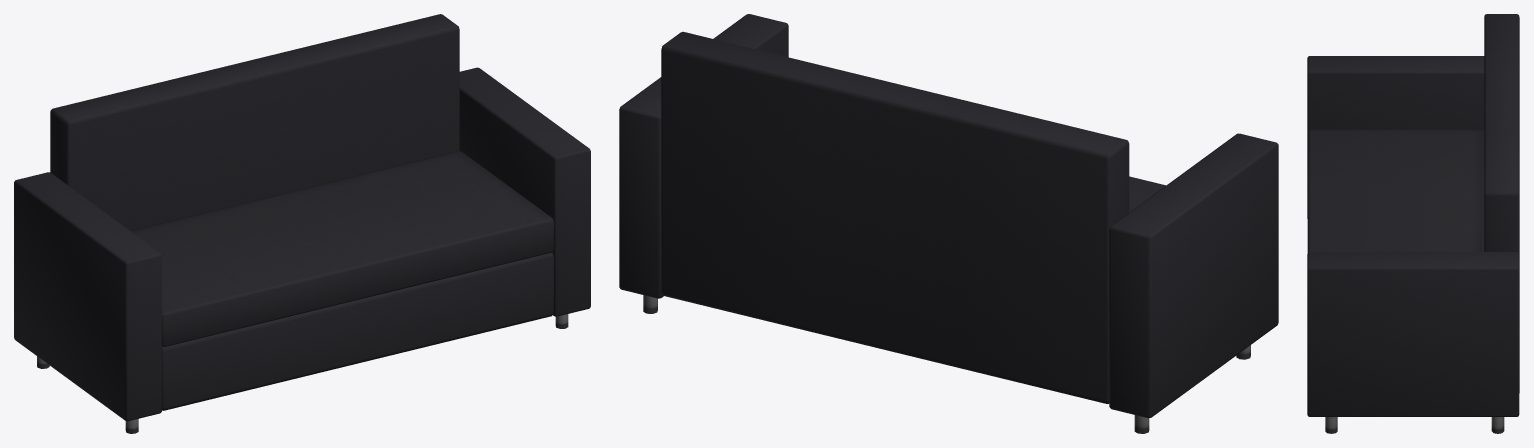
File: sofa.FBX
3 renders of one model, left to right at view 1: azimuth 30°, elevation 25°; view 2: azimuth 150°, elevation 25°; view 3: azimuth 270°, elevation 25°, orthographic. The views are drawn at different scales.
Parts seen in each view (by area): view 1: sofa; view 2: sofa; view 3: sofa.
Part boxes in pixels (x1,y1,x2,y2): sofa: [14, 14, 590, 433]; sofa: [619, 14, 1278, 433]; sofa: [1307, 14, 1519, 433].
Size of the model in its own units: 71.12 by 29.96 by 35.82.
